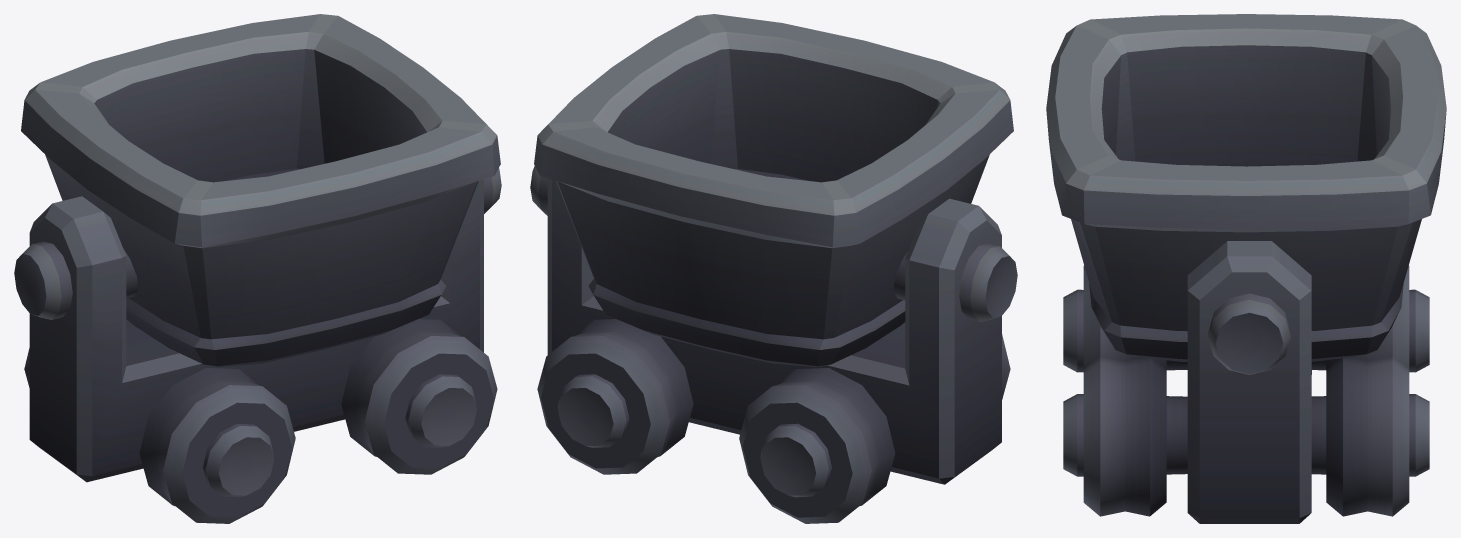
File: minecart_empty.glb
3 renders of one model, left to right at view 1: azimuth 30°, elevation 25°; view 2: azimuth 150°, elevation 25°; view 3: azimuth 270°, elevation 25°, orthographic. The views are drawn at different scales.
Parts seen in each view (by area): view 1: minecart_empty; view 2: minecart_empty; view 3: minecart_empty.
Part boxes in pixels (bbox=[...]): minecart_empty: bbox=[14, 14, 501, 523]; minecart_empty: bbox=[530, 14, 1017, 523]; minecart_empty: bbox=[1046, 14, 1446, 523].
Size of the model in its own units: 0.8144 by 0.5837 by 0.5885.
1 material, 1 textured.
